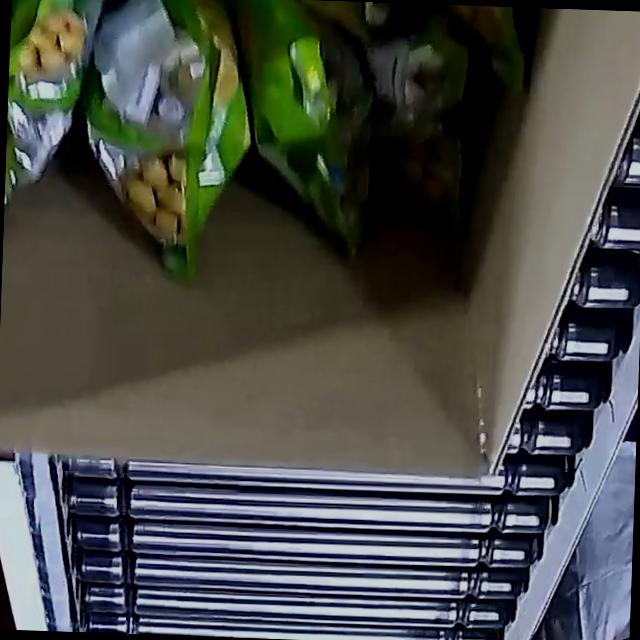yogurt: (1, 0, 555, 294)
